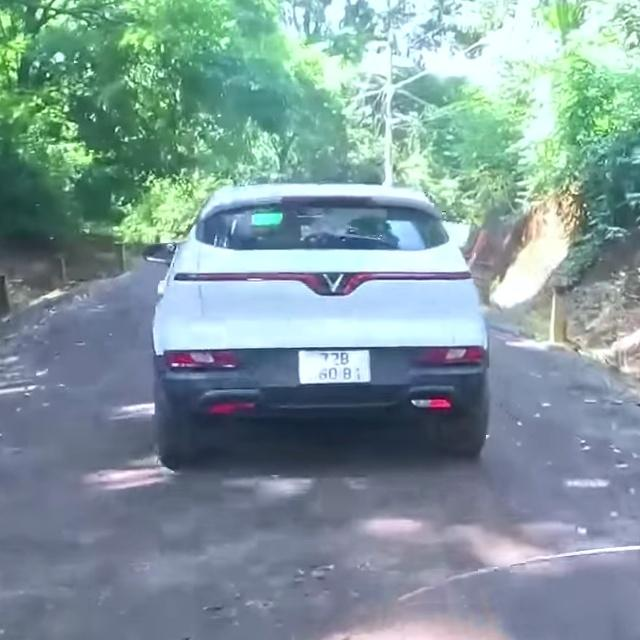license-plate: (298, 349, 370, 384)
